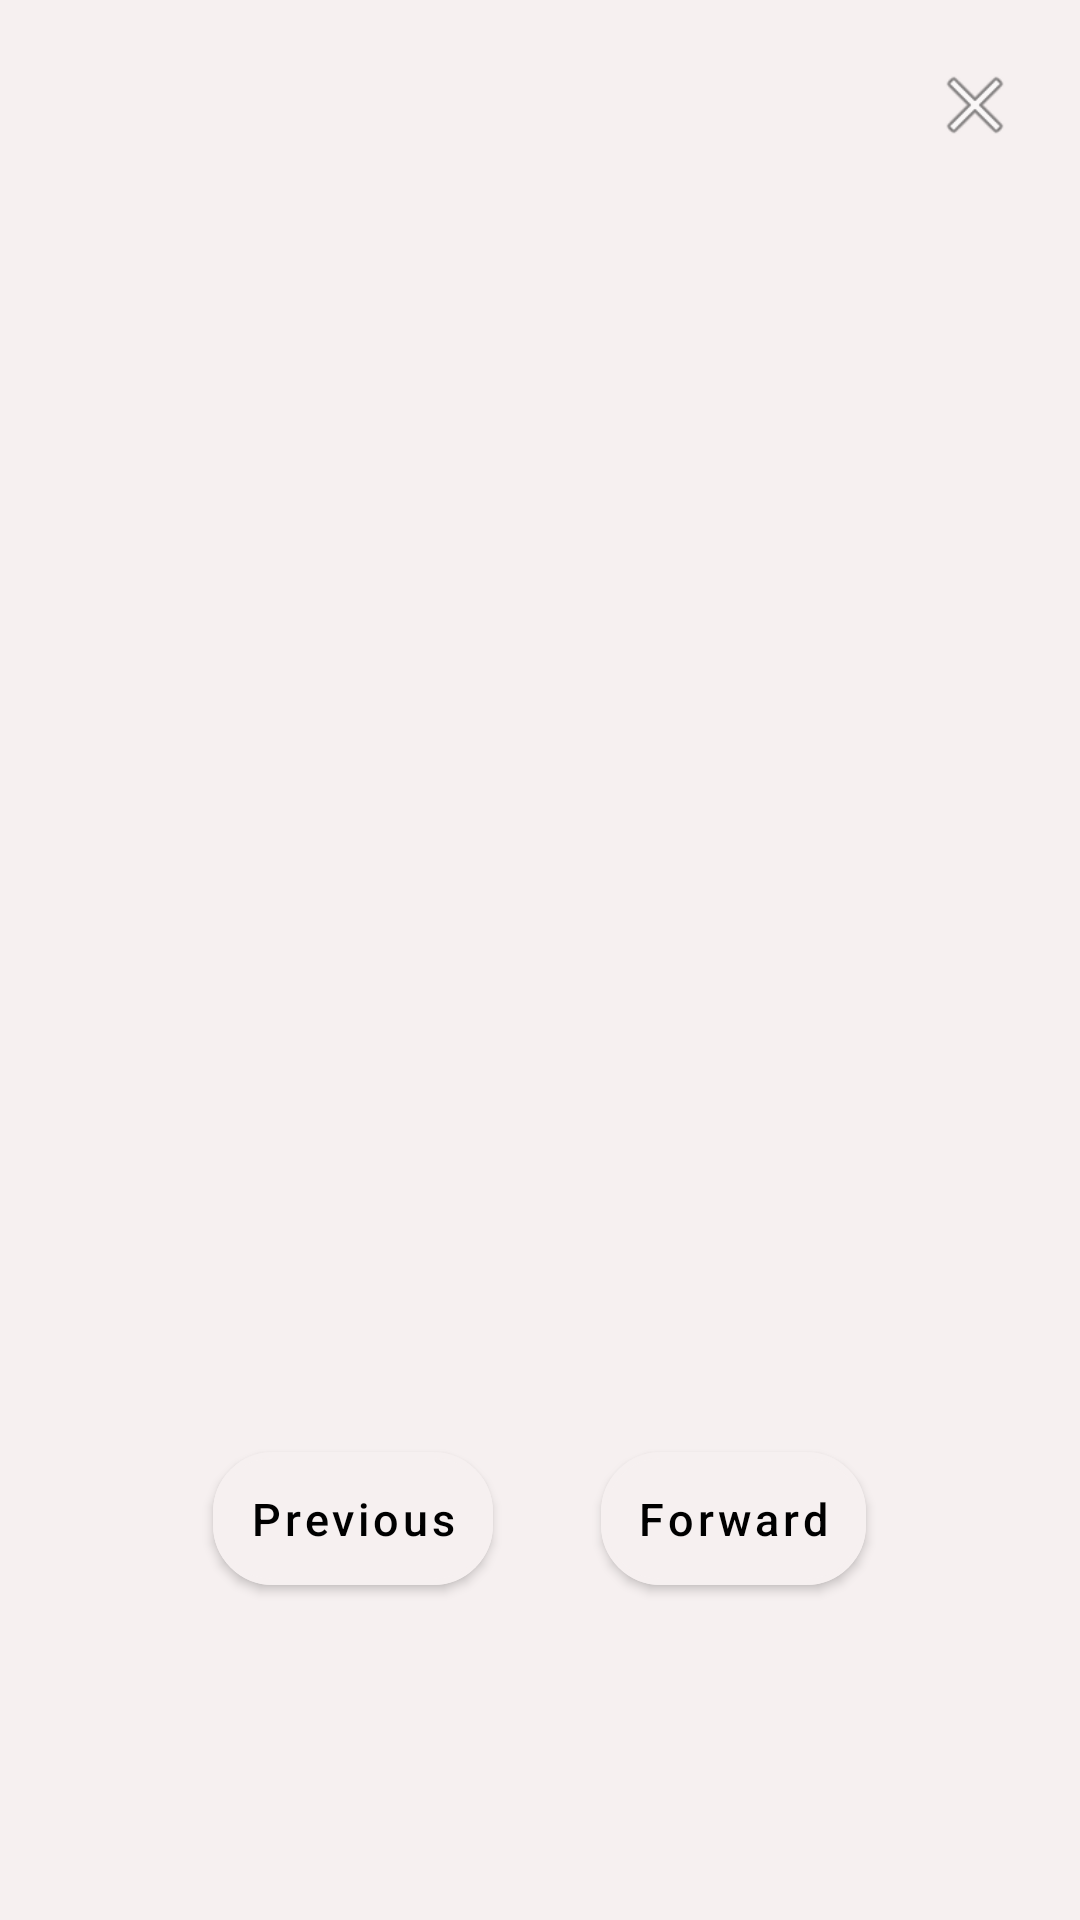

Icons on this 1080px×1920px Android screen, each with the point to tap as [x,y]:
close clear cancel: [975,105]
